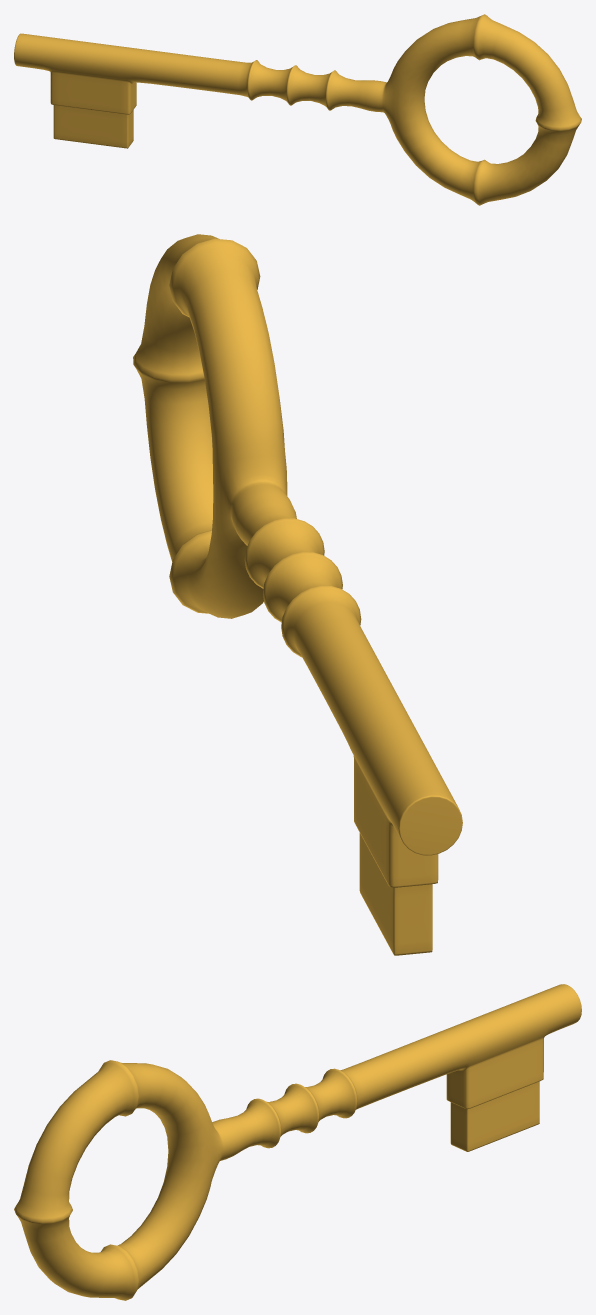
The model's file is llave.fbx.
3 views of the same model, one above another, from view 1: azimuth 30°, elevation 25°; view 2: azimuth 150°, elevation 25°; view 3: azimuth 270°, elevation 25° (orthographic). The views are drawn at different scales.
Visible parts, largest first — view 1: Key; view 2: Key; view 3: Key.
Part boxes in pixels (box(x1,y1,x2,y2)): Key: box(14, 14, 581, 205); Key: box(133, 234, 462, 955); Key: box(14, 984, 581, 1300).
Bounding box in the file's own units: 146 × 71.88 × 156.
